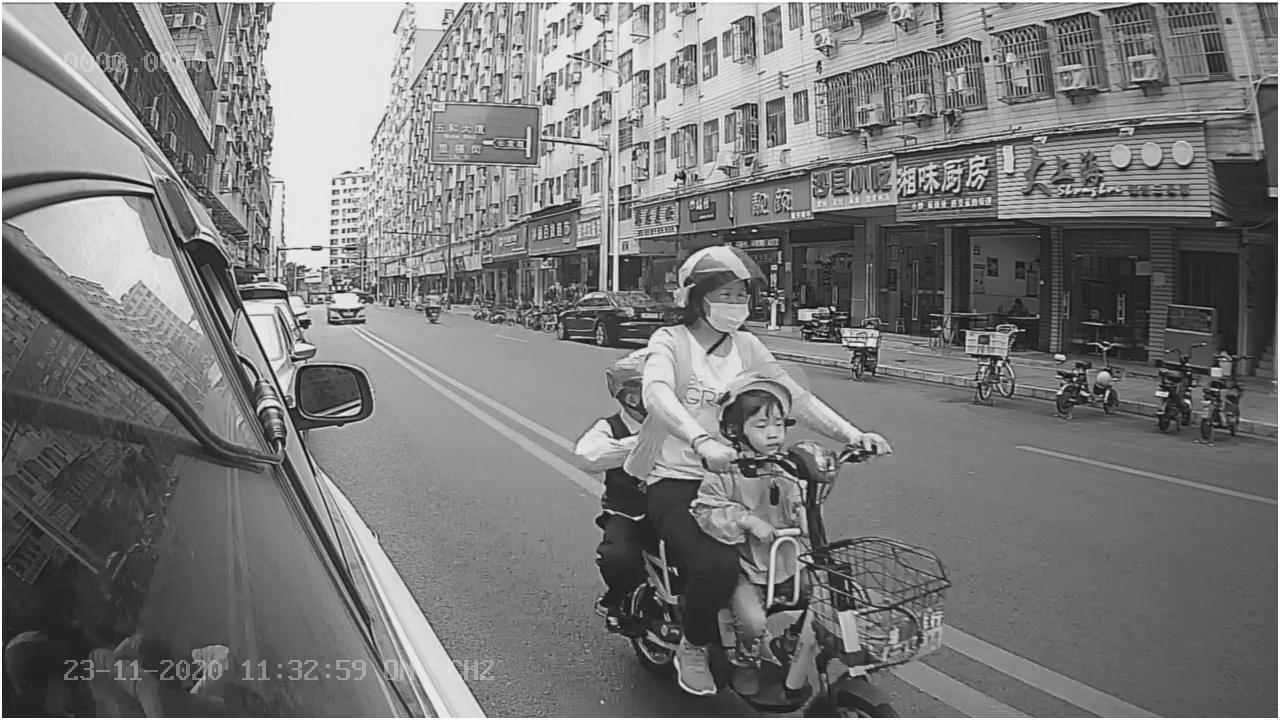person: (641, 246, 839, 445)
